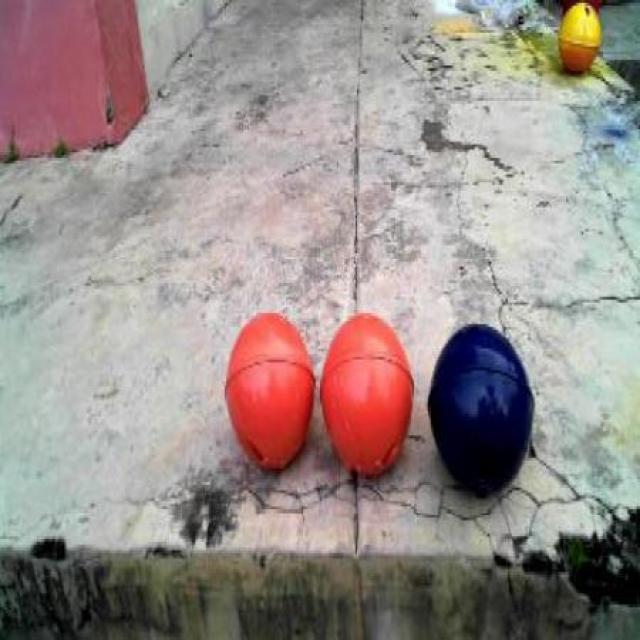buoy: (424, 314, 536, 505), (317, 305, 418, 487), (223, 302, 319, 480)
